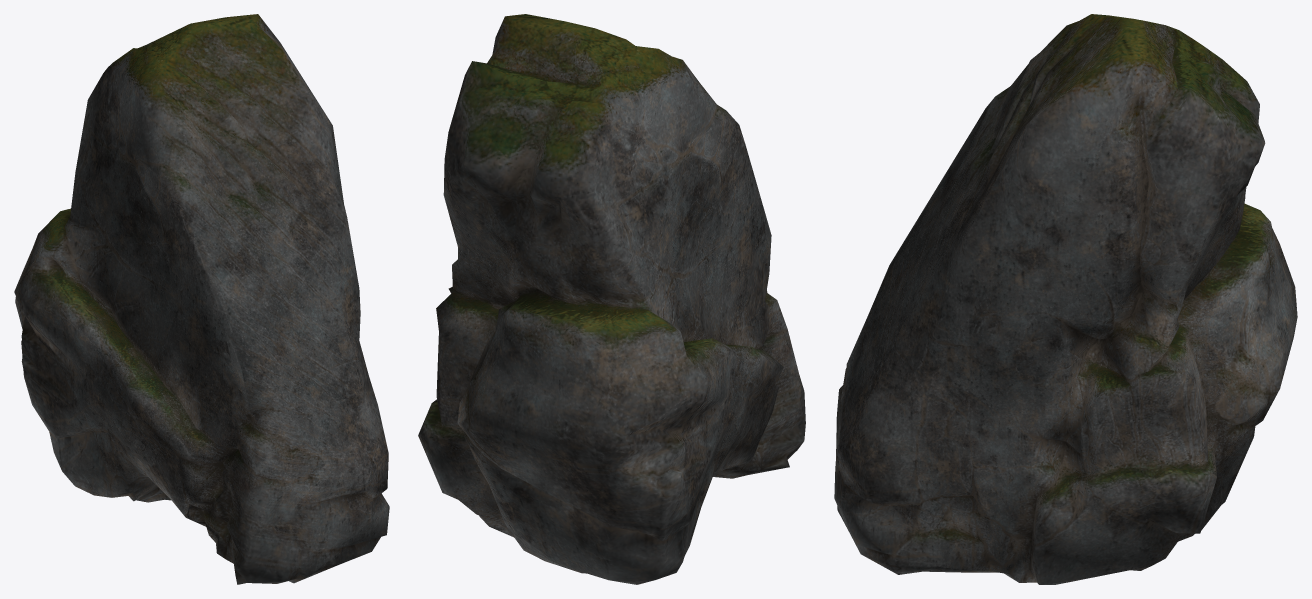
Rendered from rock2.glb.
3 views of the same model, side by side, from view 1: azimuth 30°, elevation 25°; view 2: azimuth 150°, elevation 25°; view 3: azimuth 270°, elevation 25° (orthographic). The views are drawn at different scales.
Parts seen in each view (by area): view 1: SM_LittleRock_02; view 2: SM_LittleRock_02; view 3: SM_LittleRock_02.
Part boxes in pixels (box(x1,y1,x2,y2)): SM_LittleRock_02: box(14, 14, 389, 584); SM_LittleRock_02: box(418, 14, 805, 584); SM_LittleRock_02: box(834, 14, 1297, 584).
Bounding box in the file's own units: 12.19 × 20.69 × 16.74.
Materials: 1 (1 with a texture image).
